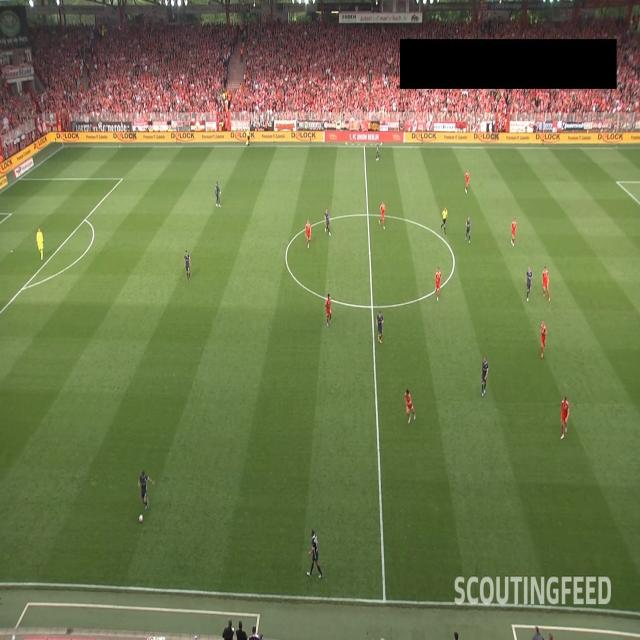ball: (138, 514, 144, 524)
